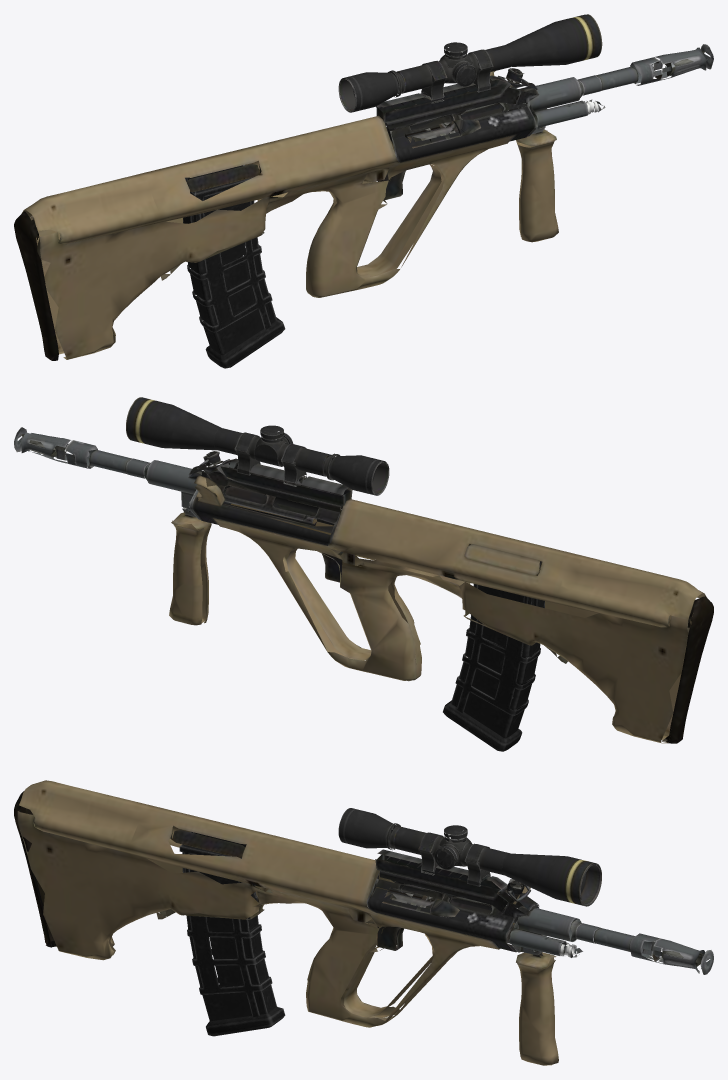
The model's file is g_aug_lo.glb.
3 views of the same model, one above another, from view 1: azimuth 30°, elevation 25°; view 2: azimuth 150°, elevation 25°; view 3: azimuth 330°, elevation 25° (orthographic).
Visible parts, largest first — view 1: merged; view 2: merged; view 3: merged.
Boxes of the visible parts, bbox=[...] form: merged: bbox=[14, 14, 713, 368]; merged: bbox=[14, 397, 713, 751]; merged: bbox=[14, 780, 713, 1065].
Size of the model in its own units: 0.3151 by 0.1138 by 0.0304.
4 materials, 4 textured.
